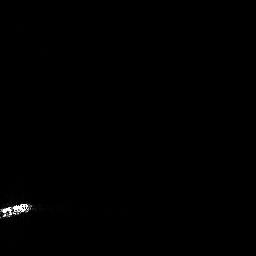ship: (1, 199, 35, 222)
